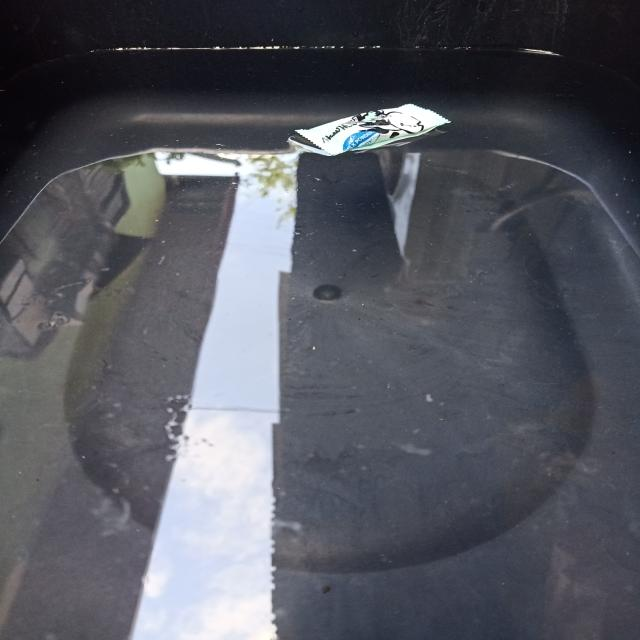Plastic Wrapper: (289, 104, 449, 156)
